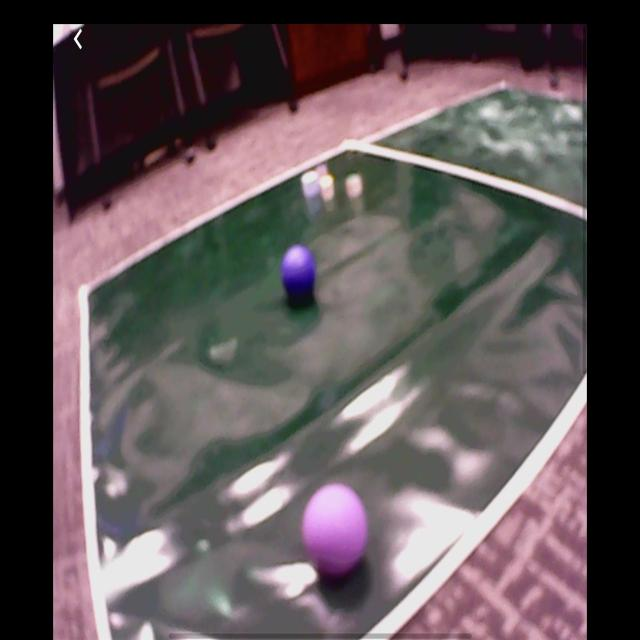ball: (302, 484, 368, 582), (282, 245, 316, 296)
